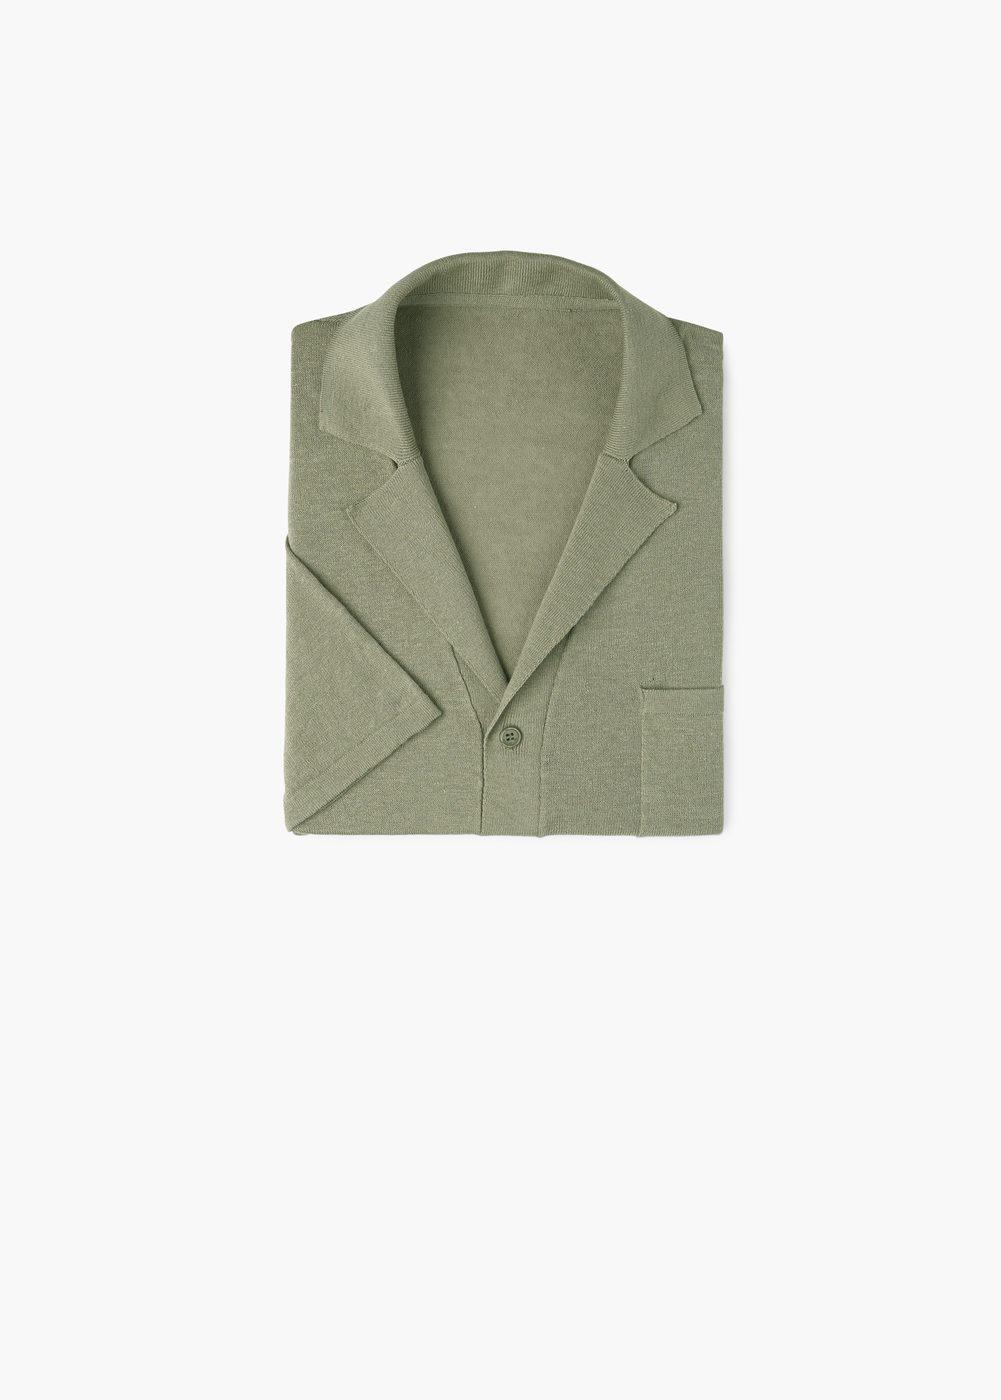teeshirt: (255, 257, 755, 880)
